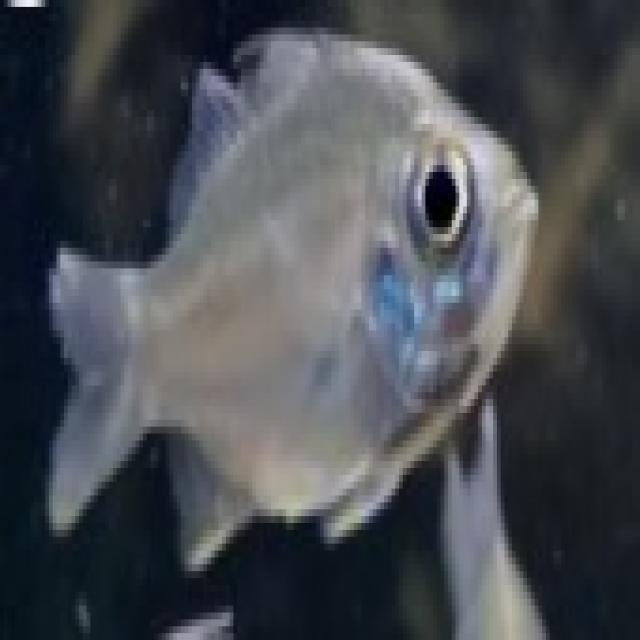Glass-Perchlet: (31, 0, 563, 590)
